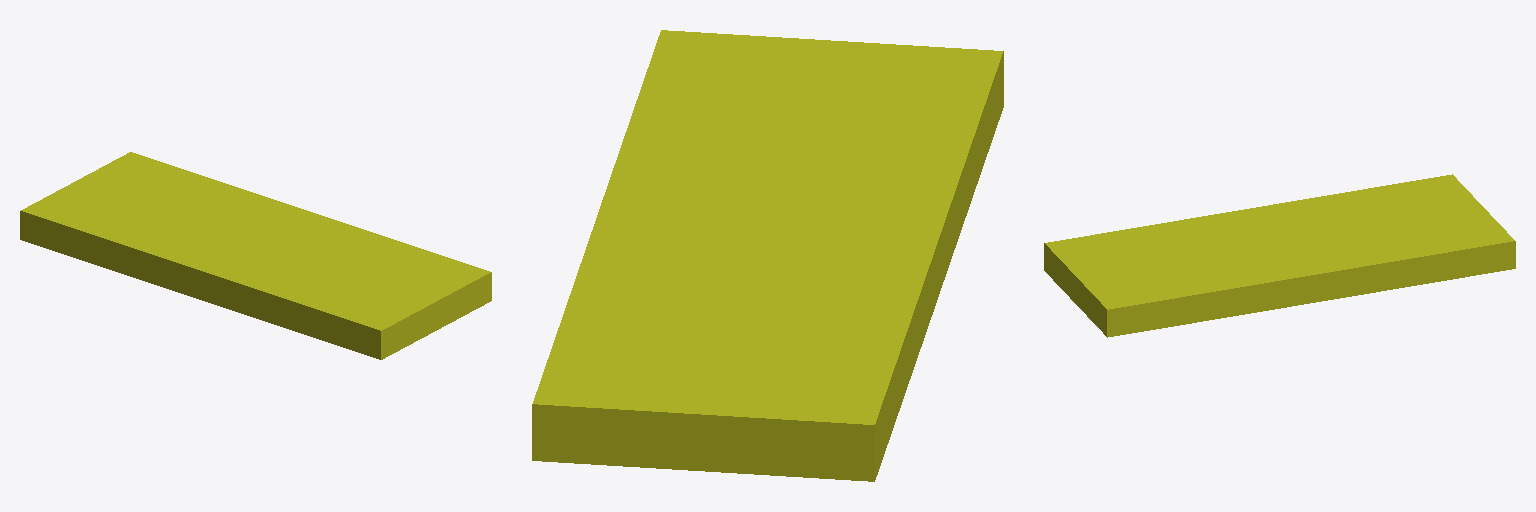
URDF robot description (Interference):
<?xml version="1.0"?>
<robot name="Interference">
  <link name="baseLink">
    <inertial>
      <origin xyz="0.0 0.0 0.0" rpy="0.0 0.0 0.0"/>
      <inertia ixx="0.0" ixy="0.0" ixz="0.0" iyy="0.0" iyz="0.0" izz="0.0"/>
      <mass value="0"/>
    </inertial>
    <visual>
      <origin xyz="0.0 0.0 0.0" rpy="0.0 0.0 0.3793969598106224"/>
      <geometry>
        <box size="0.055277856275036466 0.14288432456413308 0.01"/>
      </geometry>
      <material name="color">
        <color rgba="0.760292638553066 0.7710966312312214 0.1739784506616392 1.0"/>
      </material>
    </visual>
  </link>
</robot>

--- Facts derived from the render (not from the file) ---
3 views of the same robot in one strip: view 1: azimuth 30°, elevation 25°; view 2: azimuth 150°, elevation 25°; view 3: azimuth 270°, elevation 25° (orthographic).
Robot: Interference — 1 links, 0 joints (none); root link baseLink; default pose: every joint at zero.
Links seen in each view (by area): view 1: baseLink; view 2: baseLink; view 3: baseLink.
Boxes of the visible links, box(x1,y1,x2,y2) form: baseLink: box(20, 152, 491, 359); baseLink: box(532, 30, 1003, 481); baseLink: box(1044, 174, 1515, 337).
Bounding box of the posed robot: 0.1043 × 0.1532 × 0.01 m (x, y, z).
Geometry: primitives only (box / cylinder / sphere), no mesh files.